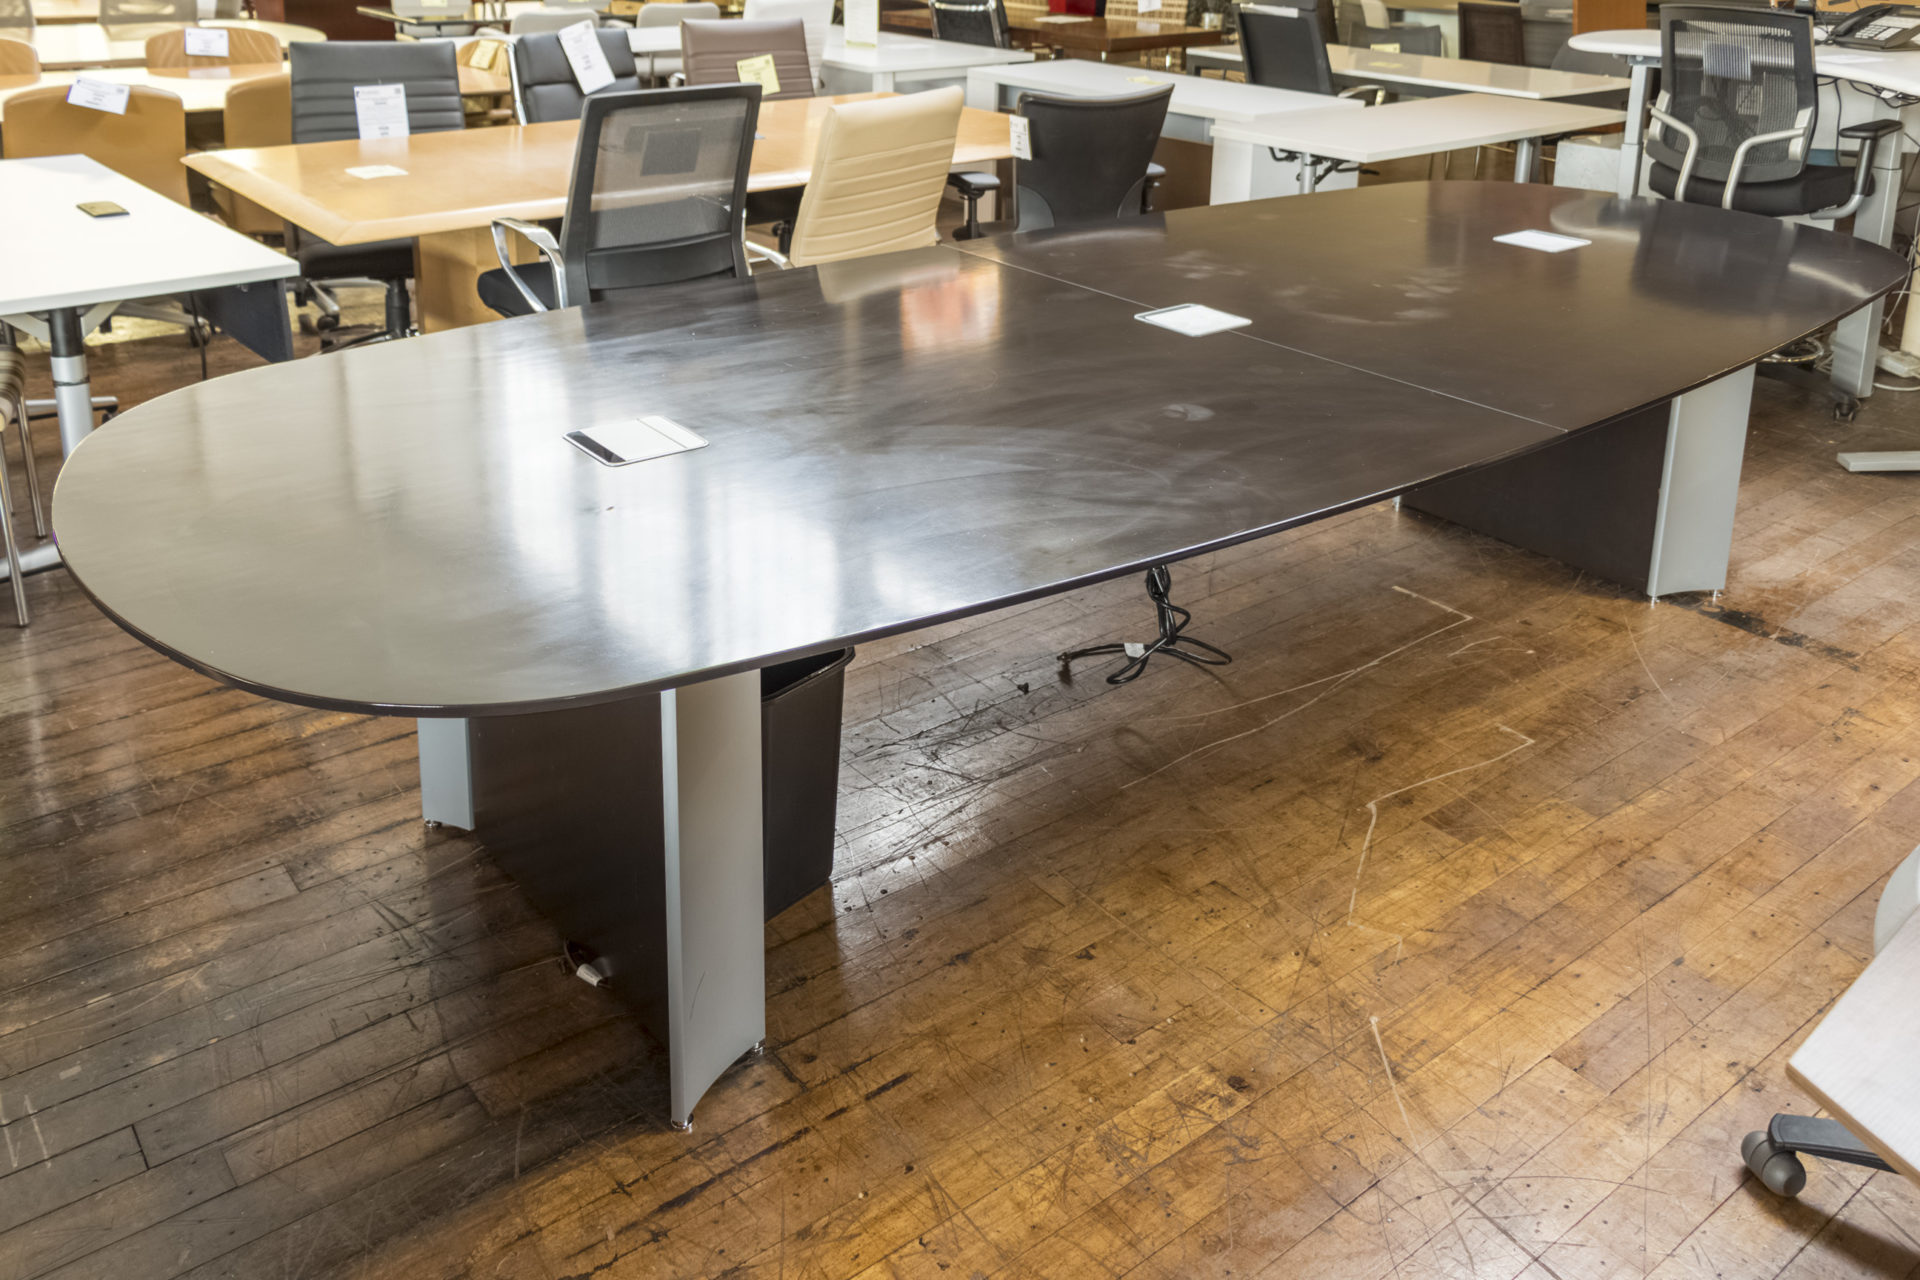conference_table: (58, 180, 1909, 1133), (181, 92, 1034, 309), (1, 152, 294, 607), (968, 60, 1370, 204), (2, 49, 533, 152), (1210, 92, 1628, 203), (1180, 37, 1646, 115), (797, 25, 1038, 92), (1004, 11, 1236, 59)
